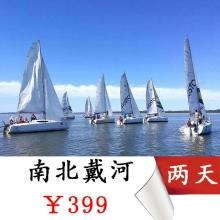fanchuan: (4, 39, 70, 134), (182, 37, 211, 137), (88, 72, 115, 127), (142, 75, 170, 124), (117, 72, 140, 128), (57, 92, 78, 121), (79, 95, 94, 120)
